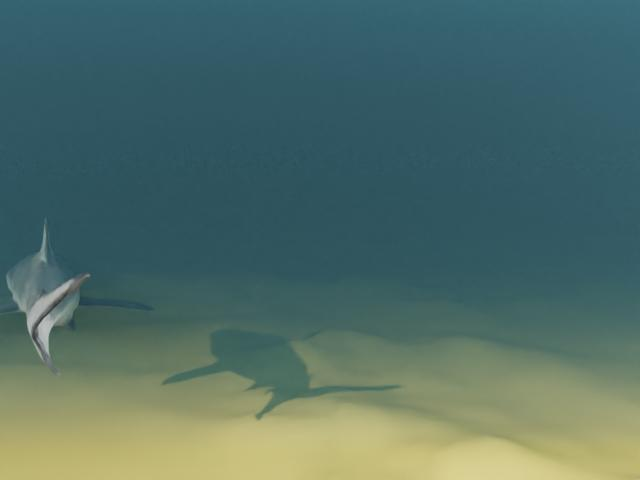Carribean Shark.001: (0, 217, 154, 376)
